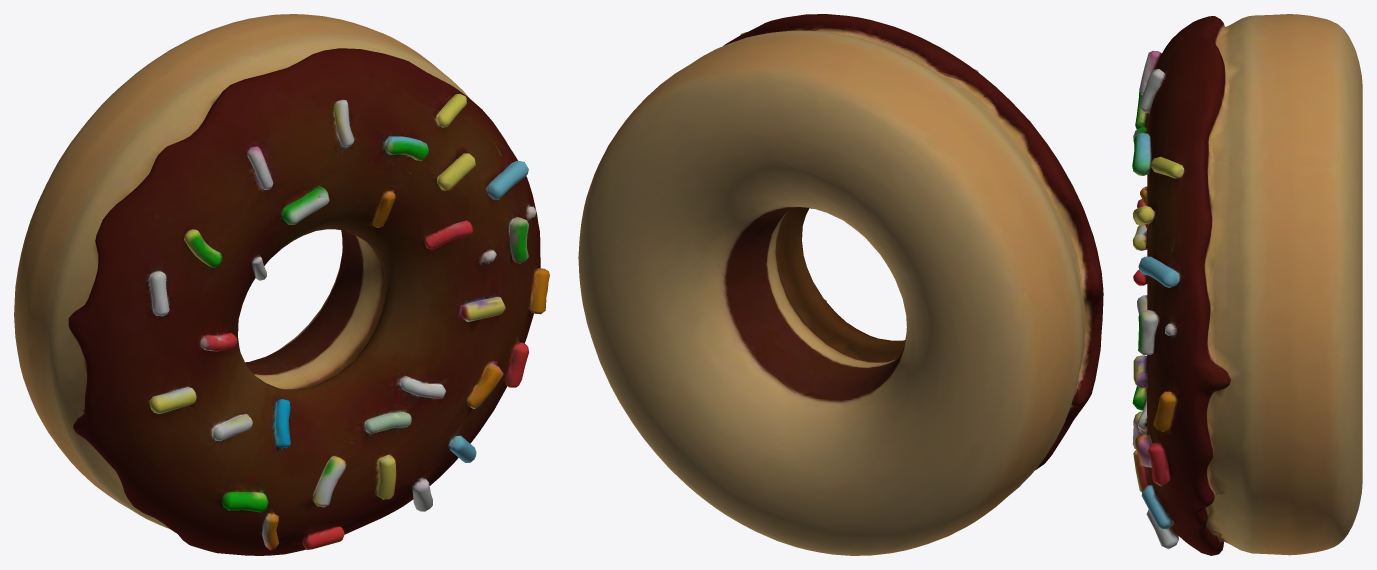
Rendered from emoji-donatu.glb.
3 views of the same model, side by side, from view 1: azimuth 30°, elevation 25°; view 2: azimuth 150°, elevation 25°; view 3: azimuth 270°, elevation 25° (orthographic).
Visible parts, largest first — view 1: emoji-donatu; view 2: emoji-donatu; view 3: emoji-donatu.
Part boxes in pixels (left/top/right/bottom): emoji-donatu: left=14, top=14, right=549, bottom=555; emoji-donatu: left=578, top=14, right=1103, bottom=555; emoji-donatu: left=1132, top=14, right=1362, bottom=555.
Bounding box in the file's own units: 0.9792 × 0.9797 × 0.4159.
Materials: 1 (1 with a texture image).
